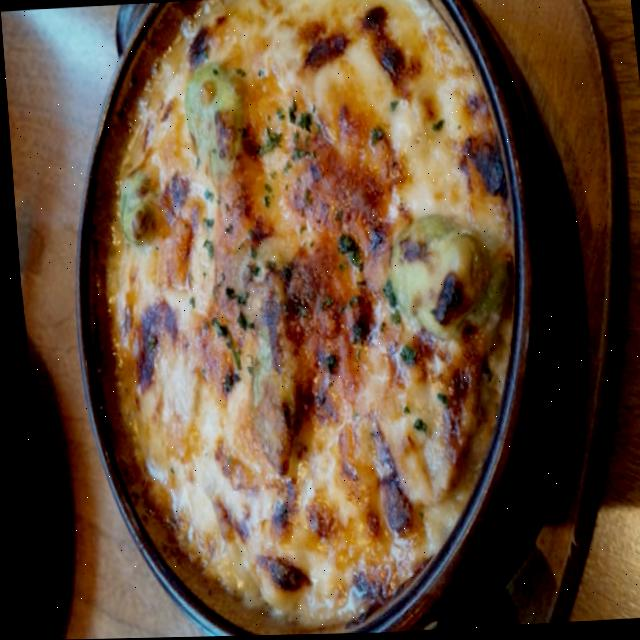米饭主食: (78, 0, 559, 599)
